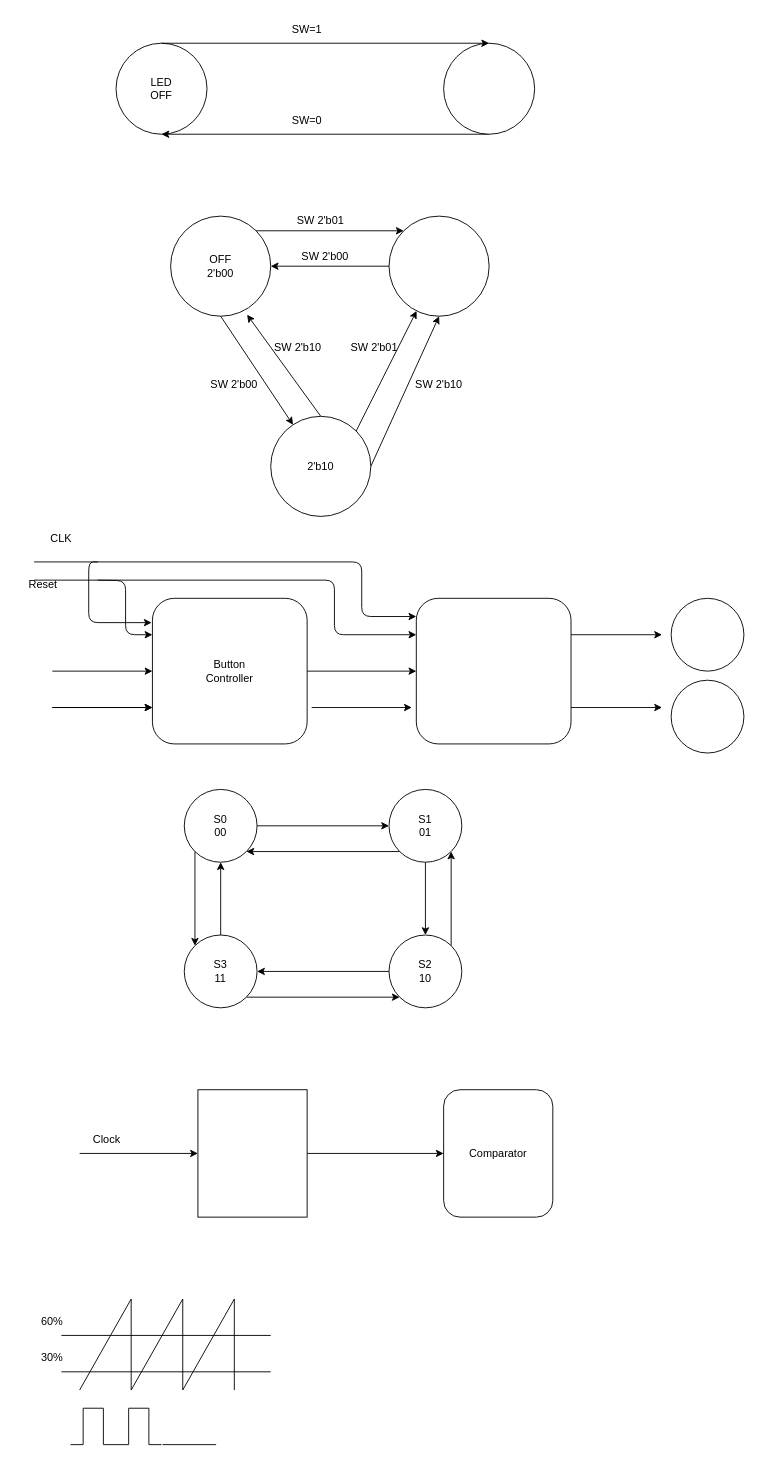
The diagram is 760 pixels wide and 1461 high, and some of its shapes have lost their labels. The centre of each missing label's shape, as x and y in pixels:
"2'b01" goes at point 438,265.
"Counter" goes at point 252,1153.
"Led FSM" goes at point 493,670.
"LEDON" goes at point 489,88.
